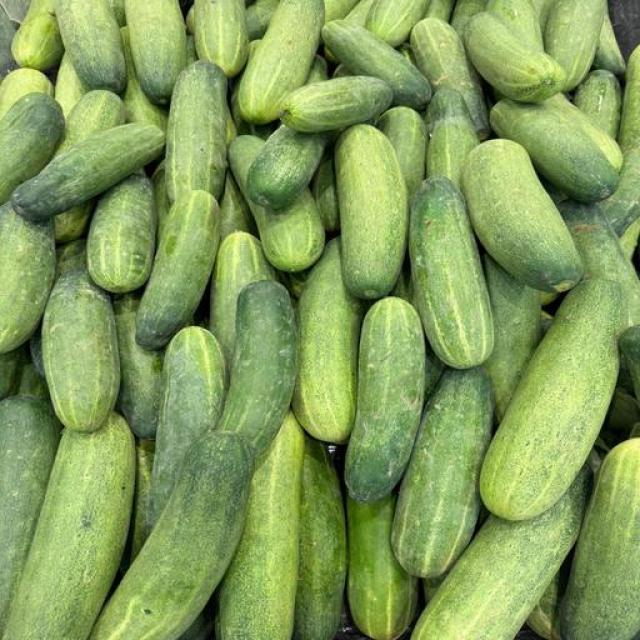organic: (480, 280, 622, 519), (89, 433, 252, 639), (3, 414, 134, 639), (412, 472, 588, 639), (392, 368, 492, 577), (217, 413, 303, 639), (463, 140, 582, 292), (345, 297, 424, 502), (409, 177, 493, 368), (147, 327, 226, 529), (560, 438, 639, 639), (12, 123, 164, 219), (293, 239, 363, 443), (219, 279, 298, 459), (0, 395, 59, 633), (490, 97, 622, 202), (137, 190, 219, 349), (229, 135, 324, 272), (335, 124, 408, 298), (43, 270, 119, 432), (293, 437, 347, 639), (238, 0, 323, 123), (347, 494, 417, 639), (560, 202, 639, 326), (323, 20, 431, 109), (484, 255, 541, 421), (412, 18, 489, 138), (464, 12, 566, 102), (209, 232, 276, 366), (165, 60, 227, 201), (0, 204, 56, 353), (87, 174, 156, 293), (114, 294, 163, 438), (0, 93, 64, 203), (247, 125, 329, 209), (54, 0, 126, 93), (538, 94, 622, 171), (280, 75, 392, 132), (125, 0, 186, 103), (544, 0, 607, 91), (548, 95, 623, 171), (427, 87, 478, 187), (120, 27, 167, 131), (55, 89, 126, 156), (55, 90, 126, 156), (378, 107, 428, 197), (120, 439, 154, 571), (594, 357, 639, 452), (193, 0, 248, 77), (598, 145, 639, 236), (12, 0, 63, 71), (229, 67, 276, 138), (574, 70, 622, 139), (228, 82, 278, 146), (527, 562, 568, 639), (365, 0, 432, 47), (225, 83, 274, 143), (487, 0, 543, 52), (228, 82, 276, 142), (230, 83, 276, 142), (0, 68, 53, 117), (232, 84, 277, 141), (220, 172, 257, 241), (54, 53, 89, 117), (593, 10, 626, 77), (618, 47, 639, 152), (312, 153, 339, 232), (13, 347, 49, 401), (54, 200, 94, 244), (152, 160, 171, 243), (12, 359, 49, 401), (13, 358, 49, 401), (619, 325, 639, 399), (450, 0, 487, 38), (15, 360, 49, 401), (54, 238, 86, 281), (245, 0, 278, 41), (179, 603, 213, 639), (0, 348, 23, 399), (425, 343, 446, 398), (279, 269, 311, 301), (25, 328, 44, 378), (344, 0, 376, 27), (392, 262, 413, 303), (539, 177, 567, 206), (532, 0, 556, 33), (324, 0, 358, 22), (620, 220, 639, 259), (223, 102, 239, 144), (422, 575, 446, 603), (307, 53, 329, 83), (427, 0, 456, 22), (223, 102, 238, 143), (307, 54, 328, 83), (224, 102, 238, 143), (108, 0, 126, 27), (185, 33, 198, 66), (400, 43, 416, 66), (185, 3, 194, 38), (332, 63, 352, 78)
